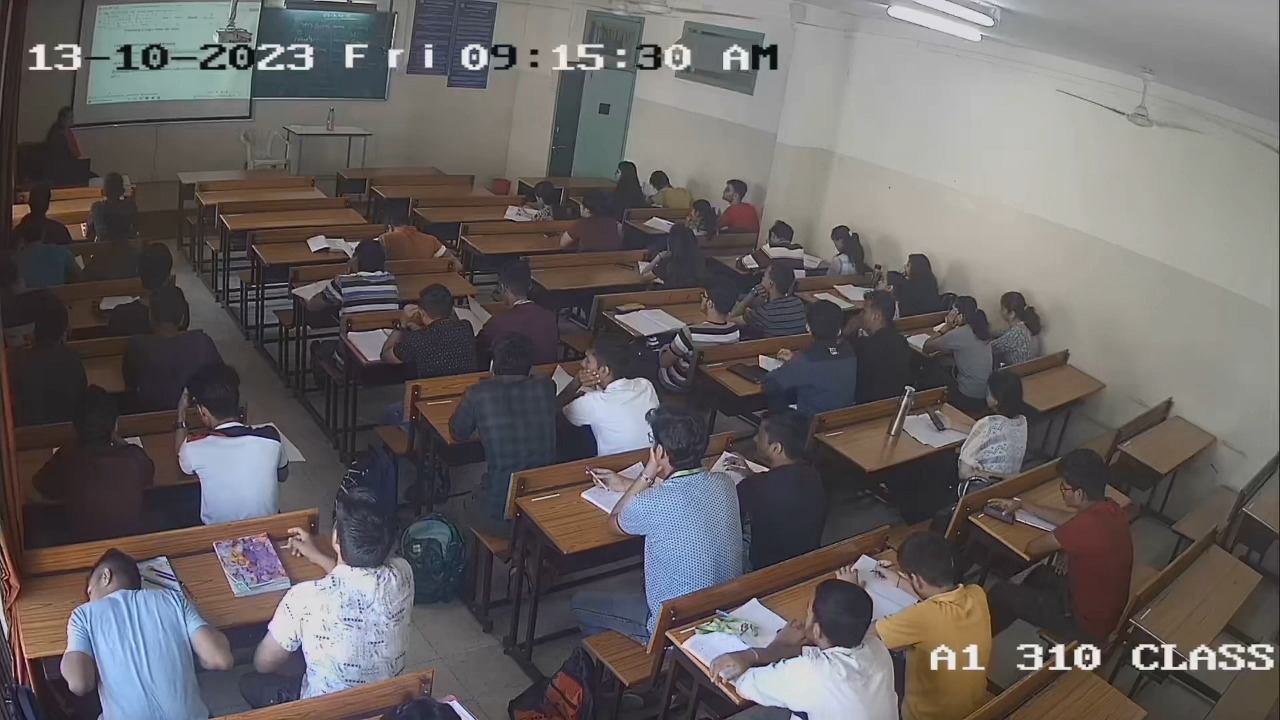cell-phones: (981, 499, 1018, 531), (921, 404, 947, 434), (614, 299, 647, 314), (614, 261, 636, 273)
person: (1025, 445, 1135, 599), (952, 368, 1027, 488), (634, 224, 702, 295), (675, 274, 741, 347)
